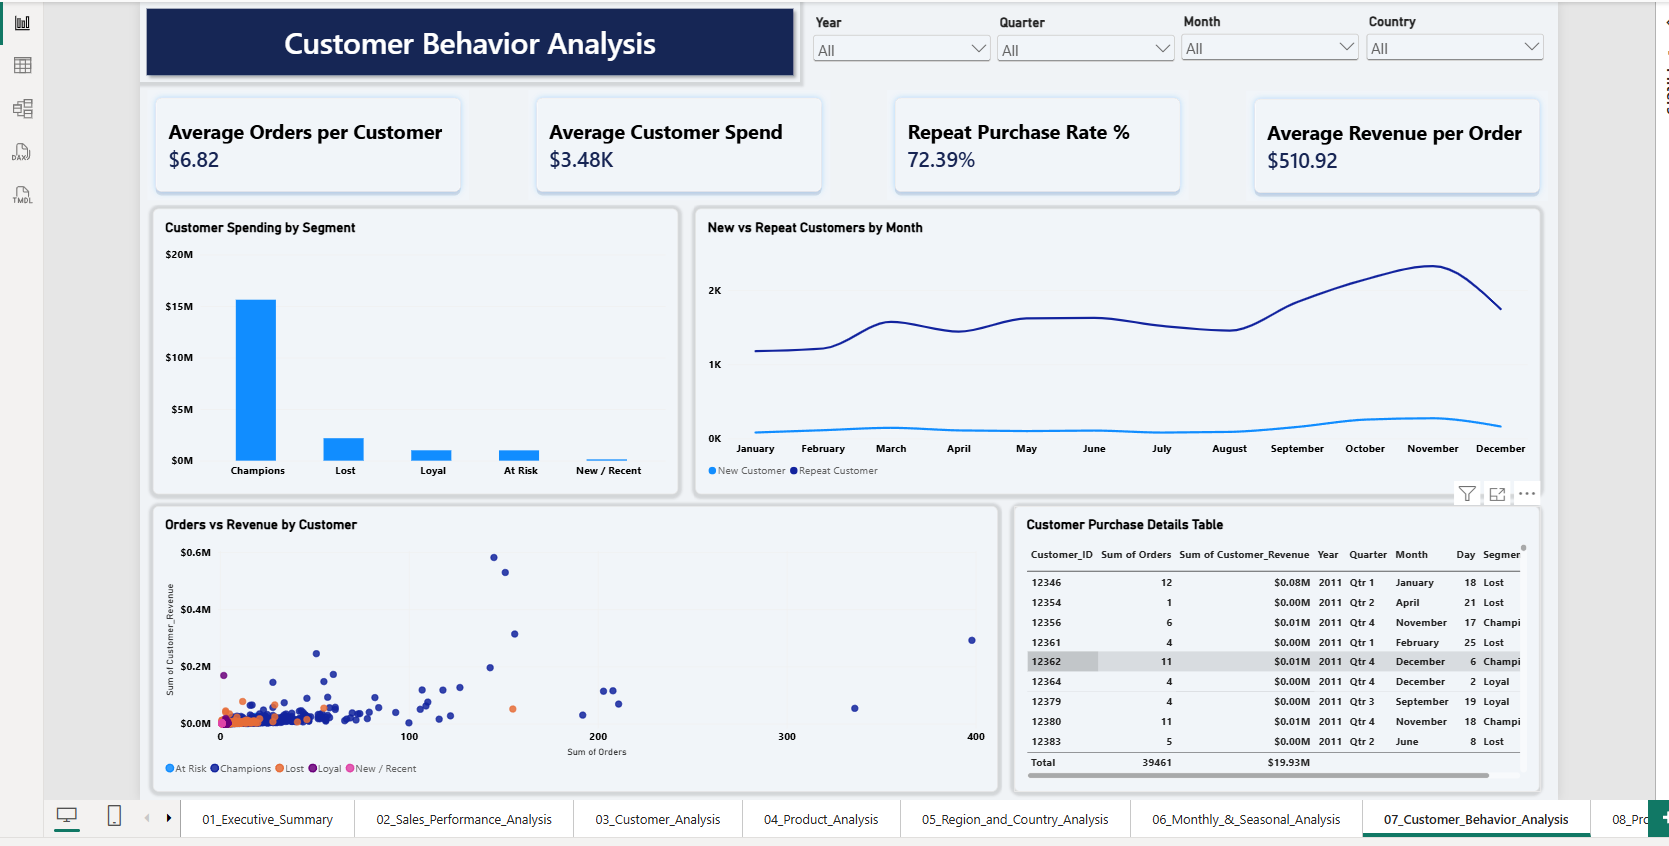

The page's visual inventory and layout, read from the dashboard file:
{"tool":"powerbi","page":{"name":"07_Customer_Behavior_Analysis","canvas":[1920,1080],"ordinal":6},"visuals":[{"type":"shape","box":[0,0,893.5,108.1],"z":0},{"type":"slicer","fields":{"Values":["Date.Quarter"]},"box":[1156.3,18,249.7,74.3],"z":1000},{"type":"slicer","fields":{"Values":["Date.Year"]},"box":[907.2,17.4,249.7,74.3],"z":2000},{"type":"slicer","fields":{"Values":["Sales.Country"]},"box":[1656.3,15.8,249.7,74.3],"z":3000},{"type":"slicer","fields":{"Values":["Date.Month"]},"box":[1405.6,16.5,249.7,74.3],"z":4000},{"type":"cardVisual","fields":{"Data":["KPI Measures.Average Orders per Customer"]},"box":[10.8,118.6,435.8,149.4],"z":5000},{"type":"cardVisual","fields":{"Data":["KPI Measures.Average Revenue per Order"]},"box":[1498.4,120.1,408.1,149.4],"z":6000},{"type":"cardVisual","fields":{"Data":["KPI Measures.Repeat Purchase Rate %"]},"box":[1011.8,118.6,408.1,149.4],"z":7000},{"type":"cardVisual","fields":{"Data":["KPI Measures.Average Customer Spend"]},"box":[525.1,118.6,408.1,149.4],"z":8000},{"type":"clusteredColumnChart","title":"Customer Spending by Segment","fields":{"Category":["Customers.Segment"],"Y":["Sum(Customers.Customer_Revenue)"]},"box":[16.9,280.3,711.5,386.5],"z":9000},{"type":"lineChart","title":"New vs Repeat Customers by Month","fields":{"Category":["Date.Month"],"Series":["Customers.Customer Type"],"Y":["KPI Measures.Total Customers"]},"box":[751.5,280.3,1144.2,386.5],"z":10000},{"type":"tableEx","title":"Customer Purchase Details Table","fields":{"Values":["Customers.Customer_ID","Sum(Customers.Orders)","Sum(Customers.Customer_Revenue)","Customers.Last_Purchase.Variation.Date Hierarchy.Year","Customers.Last_Purchase.Variation.Date Hierarchy.Quarter","Customers.Last_Purchase.Variation.Date Hierarchy.Month","Customers.Last_Purchase.Variation.Date Hierarchy.Day","Customers.Segment"]},"box":[1184.3,682.2,711.5,386.5],"z":11000},{"type":"scatterChart","title":"Orders vs Revenue by Customer","fields":{"Category":["Customers.Customer_ID"],"Series":["Customers.Segment"],"X":["Sum(Customers.Orders)"],"Y":["Sum(Customers.Customer_Revenue)"]},"box":[16.9,682.2,1144.2,386.5],"z":12000}]}

Visuals, with their boxes on the page's 1920x1080 design canvas (x1, y1, x2, y2). These are canvas units, not pixel positions in the 1669x846 screenshot, which may show the page scaled, cropped or inside an application window:
shape: pyautogui.locateOnScreen(0, 0, 894, 108)
slicer - Date.Quarter: pyautogui.locateOnScreen(1156, 18, 1406, 92)
slicer - Date.Year: pyautogui.locateOnScreen(907, 17, 1157, 92)
slicer - Sales.Country: pyautogui.locateOnScreen(1656, 16, 1906, 90)
slicer - Date.Month: pyautogui.locateOnScreen(1406, 16, 1655, 91)
cardVisual - KPI Measures.Average Orders per Customer: pyautogui.locateOnScreen(11, 119, 447, 268)
cardVisual - KPI Measures.Average Revenue per Order: pyautogui.locateOnScreen(1498, 120, 1906, 270)
cardVisual - KPI Measures.Repeat Purchase Rate %: pyautogui.locateOnScreen(1012, 119, 1420, 268)
cardVisual - KPI Measures.Average Customer Spend: pyautogui.locateOnScreen(525, 119, 933, 268)
"Customer Spending by Segment" clusteredColumnChart: pyautogui.locateOnScreen(17, 280, 728, 667)
"New vs Repeat Customers by Month" lineChart: pyautogui.locateOnScreen(752, 280, 1896, 667)
"Customer Purchase Details Table" tableEx: pyautogui.locateOnScreen(1184, 682, 1896, 1069)
"Orders vs Revenue by Customer" scatterChart: pyautogui.locateOnScreen(17, 682, 1161, 1069)
